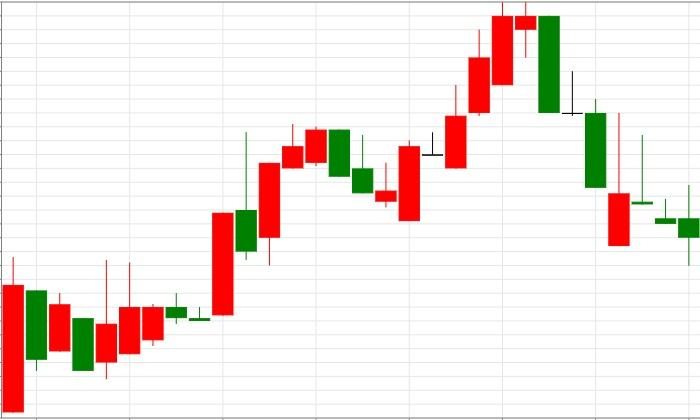shooting_star_fall: (96, 131, 257, 378)
